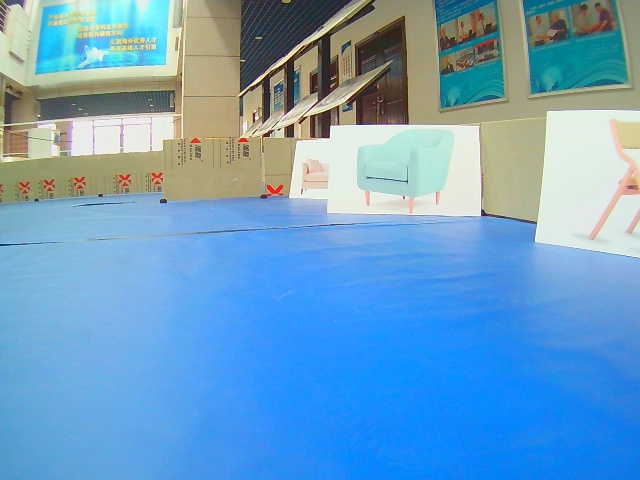sofa: (328, 123, 485, 220)
